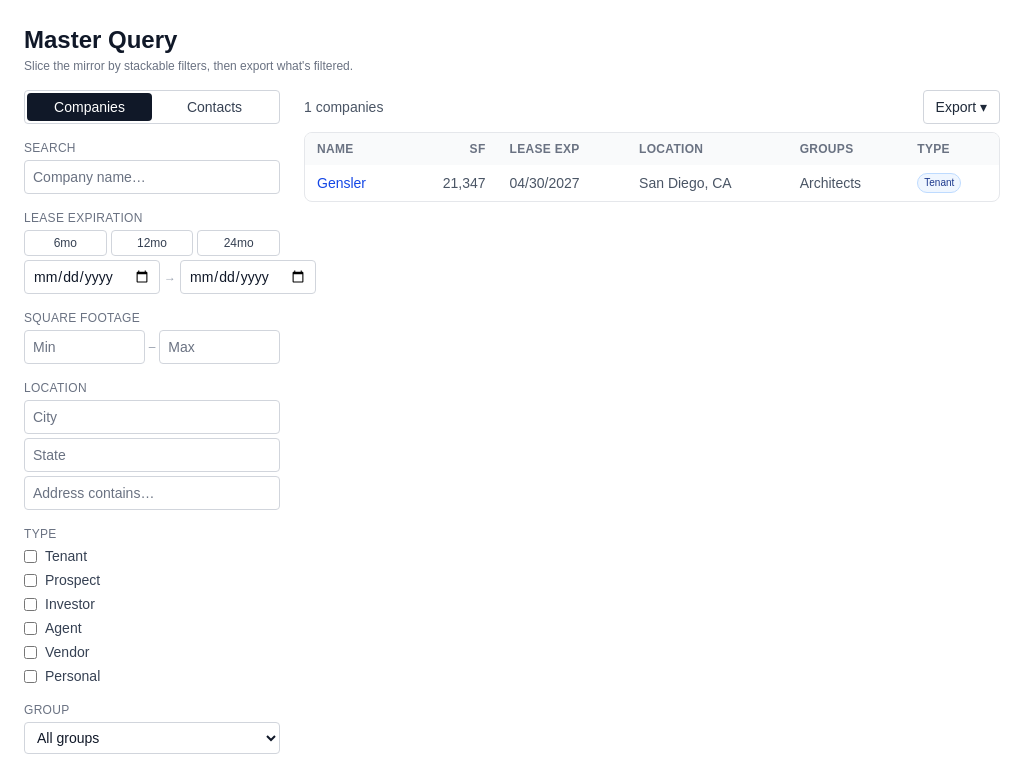
Master Query page › entity toggle re-runs the query as contacts and swaps columns
The image size is (1024, 768).
Expected: the link "Gensler" is shown, [317, 175, 366, 191]
Step 1. Click the button "Contacts" → (214, 107), box [152, 93, 277, 121]
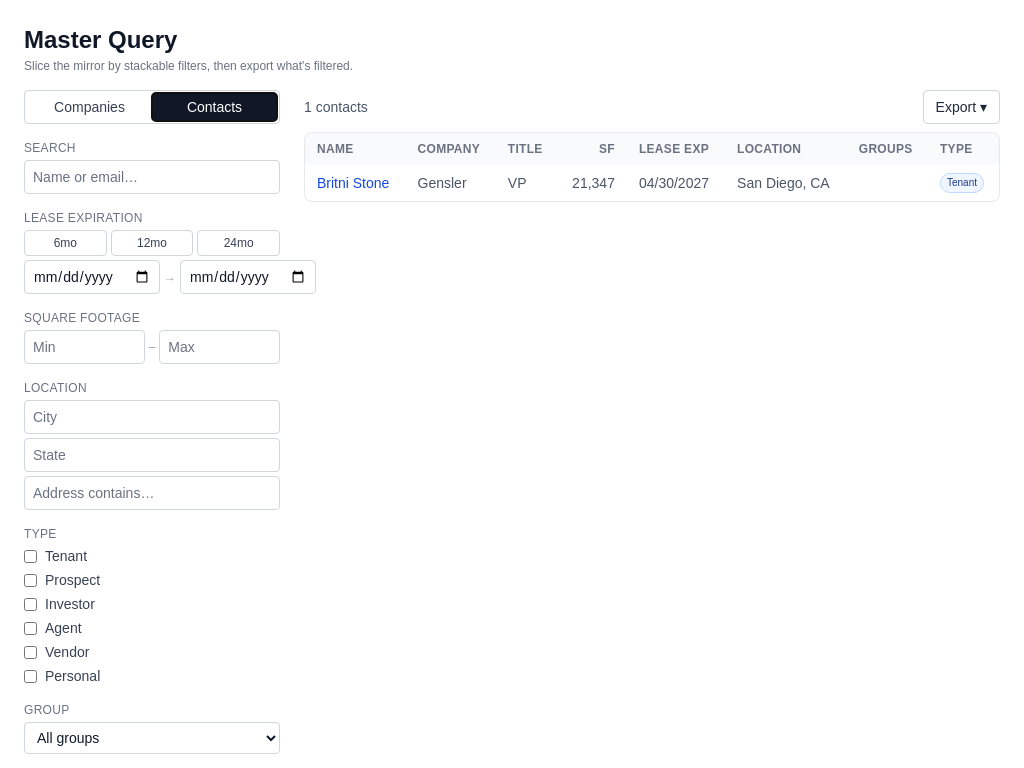
Expected: the link "Britni Stone" is shown, [317, 175, 389, 191]
Expected: the column heading "Title" is shown, [496, 133, 557, 165]
